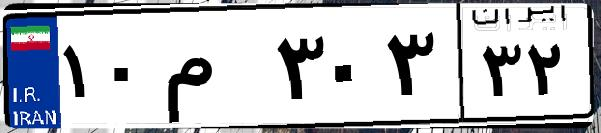0: (330, 28, 385, 110), (110, 28, 158, 98)
1: (57, 26, 110, 100)
2: (525, 38, 570, 115)
3: (270, 28, 330, 110), (385, 28, 445, 110), (475, 38, 525, 113)
م: (158, 20, 270, 120)
